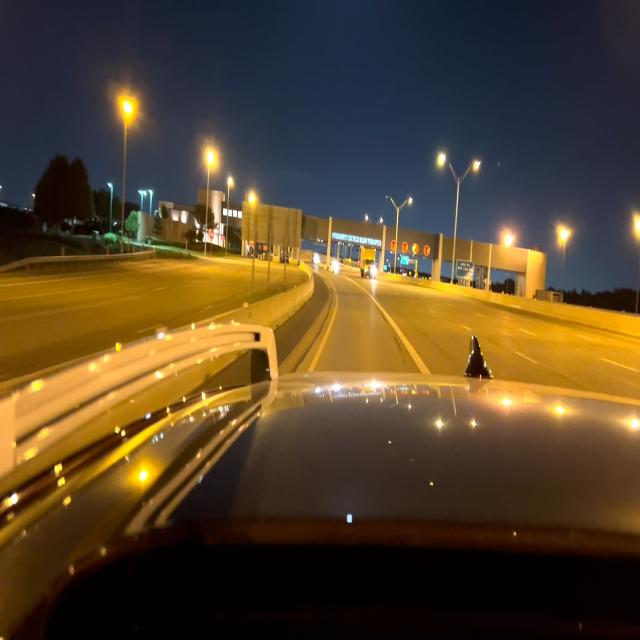back-of-sign: (243, 202, 303, 247)
